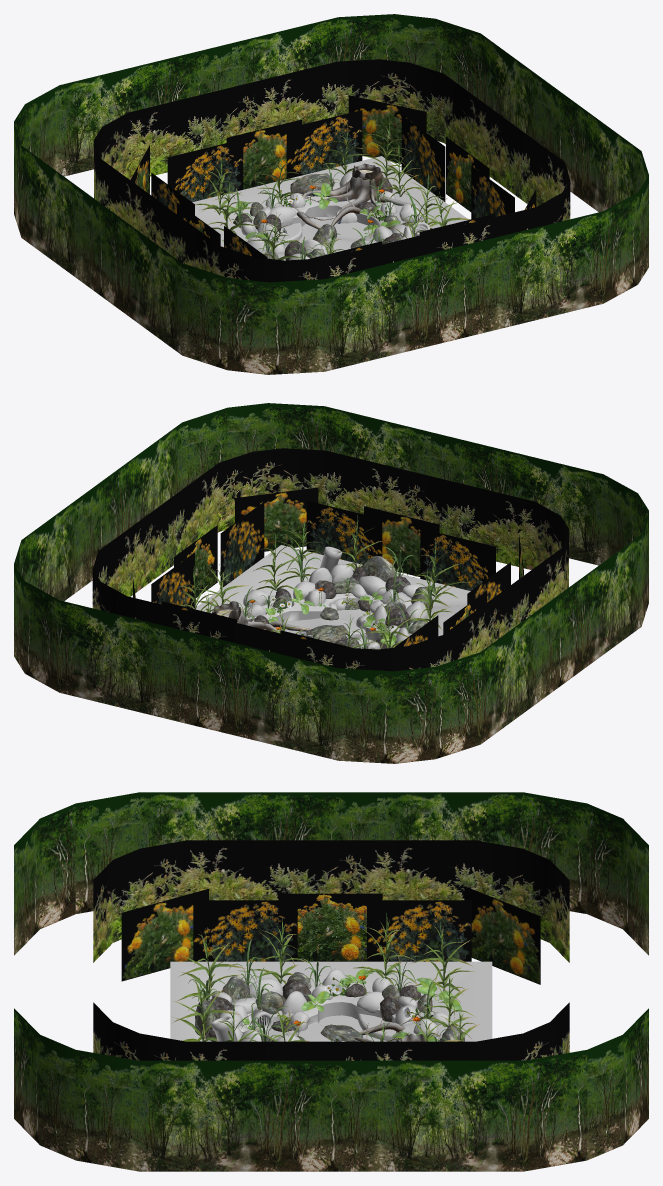
Rendered from mdl_test_level_2.fbx.
3 views of the same model, one above another, from view 1: azimuth 30°, elevation 25°; view 2: azimuth 150°, elevation 25°; view 3: azimuth 270°, elevation 25° (orthographic). The views are drawn at different scales.
Visible parts, largest first — view 1: Plane.028, Plane.027, Plane.026, Plane.029, Plane.030, Plane.043, Plane.039, Plane.034, Plane.038, polySurface2041__A_wood_01.001, Plane.033, Plane.035 (+3 smaller); view 2: Plane.028, Plane.027, Plane.026, Plane.032, Plane.031, Plane.041, Plane.033, Plane.040, Plane.034, Plane.038, Plane.036, polySurface2041__A_wood_01.001 (+6 smaller); view 3: Plane.028, Plane.027, Plane.026, Plane.036, Plane.035, Plane.044, Plane.037, Plane.042, A_ine_base43_1__Bp_plant_big06.034, A_ine_base43_1__Bp_plant_big06.035, A_ine_base43_1__Bp_plant_big06.042, A_ine_base43_1__Bp_plant_big06.041 (+2 smaller).
Boxes of the visible parts, x1=… form: Plane.028: x1=14, y1=14, x2=648, y2=374; Plane.027: x1=94, y1=59, x2=570, y2=282; Plane.026: x1=192, y1=156, x2=467, y2=260; Plane.029: x1=286, y1=110, x2=362, y2=178; Plane.030: x1=167, y1=139, x2=243, y2=202; Plane.043: x1=348, y1=95, x2=426, y2=163; Plane.039: x1=226, y1=119, x2=302, y2=189; Plane.034: x1=401, y1=115, x2=445, y2=201; Plane.038: x1=446, y1=137, x2=489, y2=211; polySurface2041__A_wood_01.001: x1=302, y1=163, x2=407, y2=223; Plane.033: x1=471, y1=166, x2=514, y2=219; Plane.035: x1=151, y1=172, x2=194, y2=215; Plane.028: x1=14, y1=403, x2=648, y2=763; Plane.027: x1=92, y1=448, x2=568, y2=671; Plane.026: x1=194, y1=545, x2=470, y2=647; Plane.032: x1=306, y1=500, x2=382, y2=564; Plane.031: x1=420, y1=528, x2=495, y2=590; Plane.041: x1=235, y1=487, x2=318, y2=551; Plane.033: x1=220, y1=502, x2=264, y2=588; Plane.040: x1=364, y1=506, x2=439, y2=576; Plane.034: x1=151, y1=552, x2=194, y2=608; Plane.038: x1=174, y1=525, x2=217, y2=598; Plane.036: x1=467, y1=562, x2=510, y2=604; polySurface2041__A_wood_01.001: x1=212, y1=601, x2=278, y2=632; Plane.028: x1=14, y1=792, x2=648, y2=1171; Plane.027: x1=93, y1=840, x2=569, y2=1060; Plane.026: x1=170, y1=961, x2=492, y2=1041; Plane.036: x1=193, y1=900, x2=297, y2=961; Plane.035: x1=367, y1=900, x2=471, y2=961; Plane.044: x1=121, y1=889, x2=208, y2=981; Plane.037: x1=278, y1=893, x2=382, y2=961; Plane.042: x1=464, y1=886, x2=540, y2=984; A_ine_base43_1__Bp_plant_big06.034: x1=176, y1=928, x2=246, y2=1001; A_ine_base43_1__Bp_plant_big06.035: x1=171, y1=974, x2=240, y2=1041; A_ine_base43_1__Bp_plant_big06.042: x1=411, y1=922, x2=476, y2=994; A_ine_base43_1__Bp_plant_big06.041: x1=353, y1=913, x2=417, y2=985.
Size of the model in its own units: 4296 by 930 by 4296.
